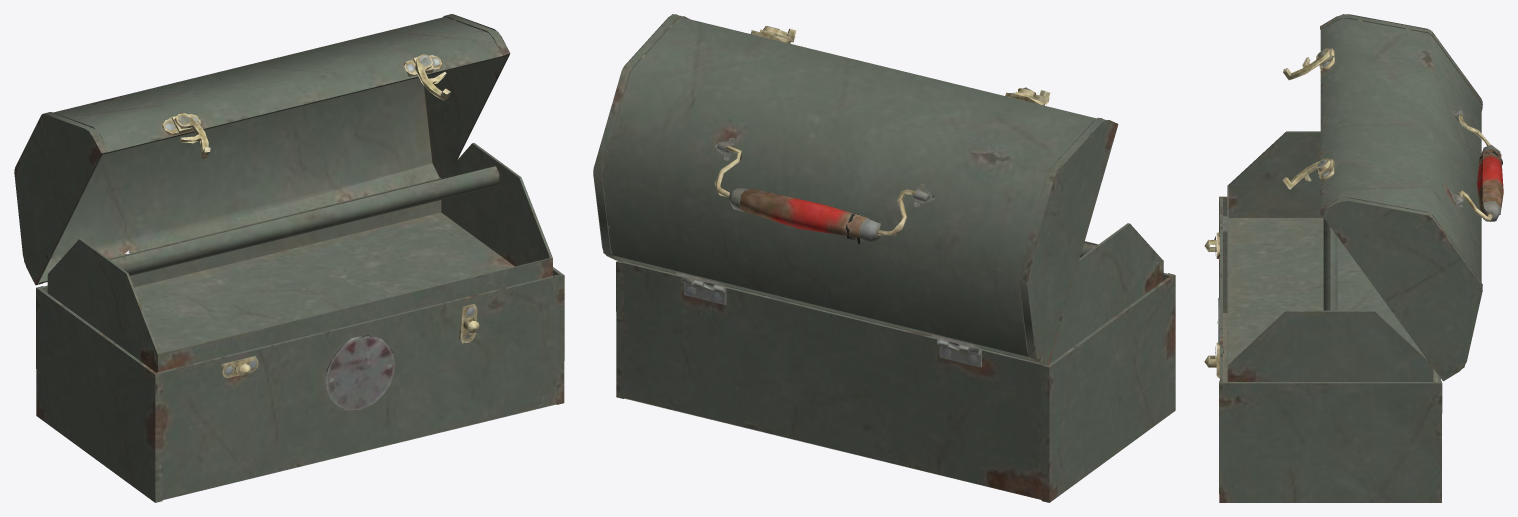
The model's file is metal_toolbox.gltf.
The picture shows the model from 3 angles, left to right: view 1: azimuth 30°, elevation 25°; view 2: azimuth 150°, elevation 25°; view 3: azimuth 270°, elevation 25°; orthographic projection. The views are drawn at different scales.
Visible parts, largest first — view 1: metal_toolbox; view 2: metal_toolbox; view 3: metal_toolbox.
Part boxes in pixels (<box>): metal_toolbox: <box>14,14,564,502</box>; metal_toolbox: <box>593,14,1175,502</box>; metal_toolbox: <box>1204,14,1503,502</box>.
Size of the model in its own units: 0.4 by 0.3051 by 0.2712.
Materials: 1 (1 with a texture image).
